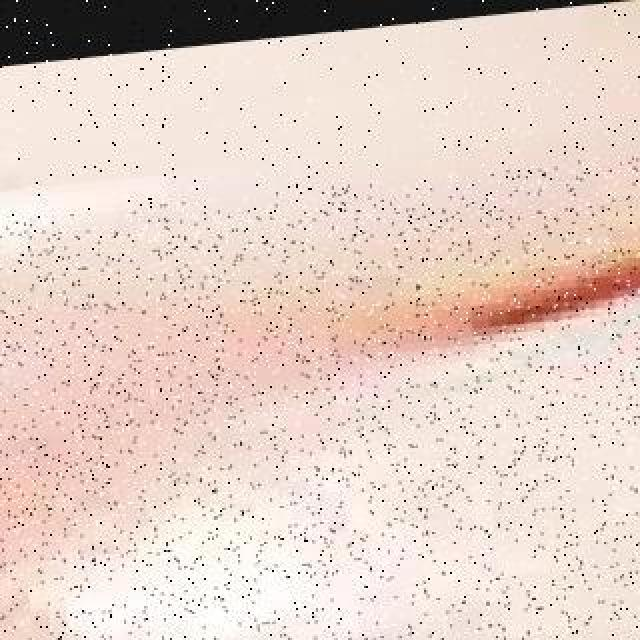spacing: (418, 126, 640, 408)
